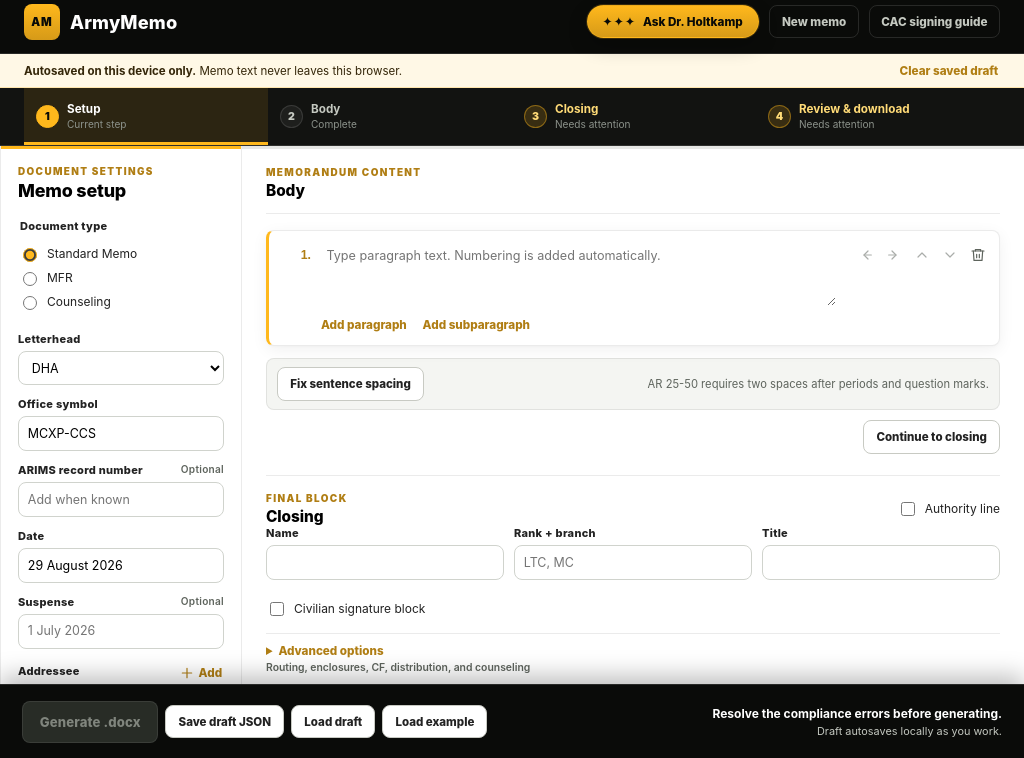
Test: ArmyMemo editor › keeps generation enabled when a valid memo omits the optional ARIMS record number
The image size is (1024, 758).
Click the button "Load example" at (435, 721), box [382,704,488,738]
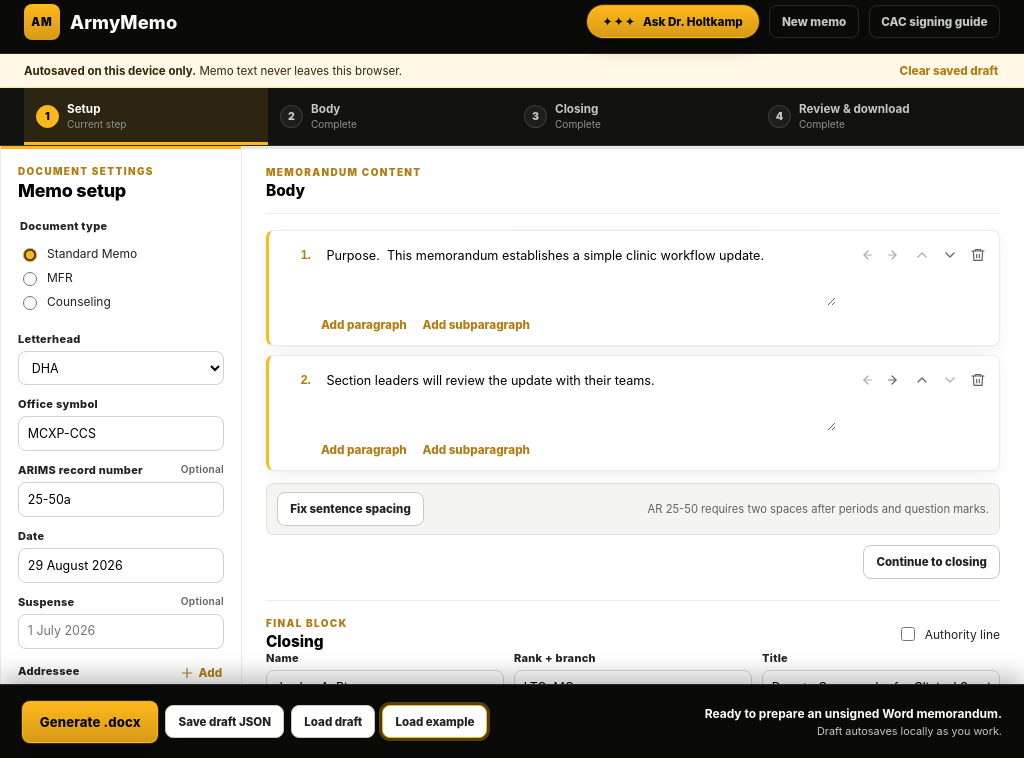
Clear the field labelled "ARIMS record number Optional" at (121, 500), box [18,482,224,517]
(page scrolled)
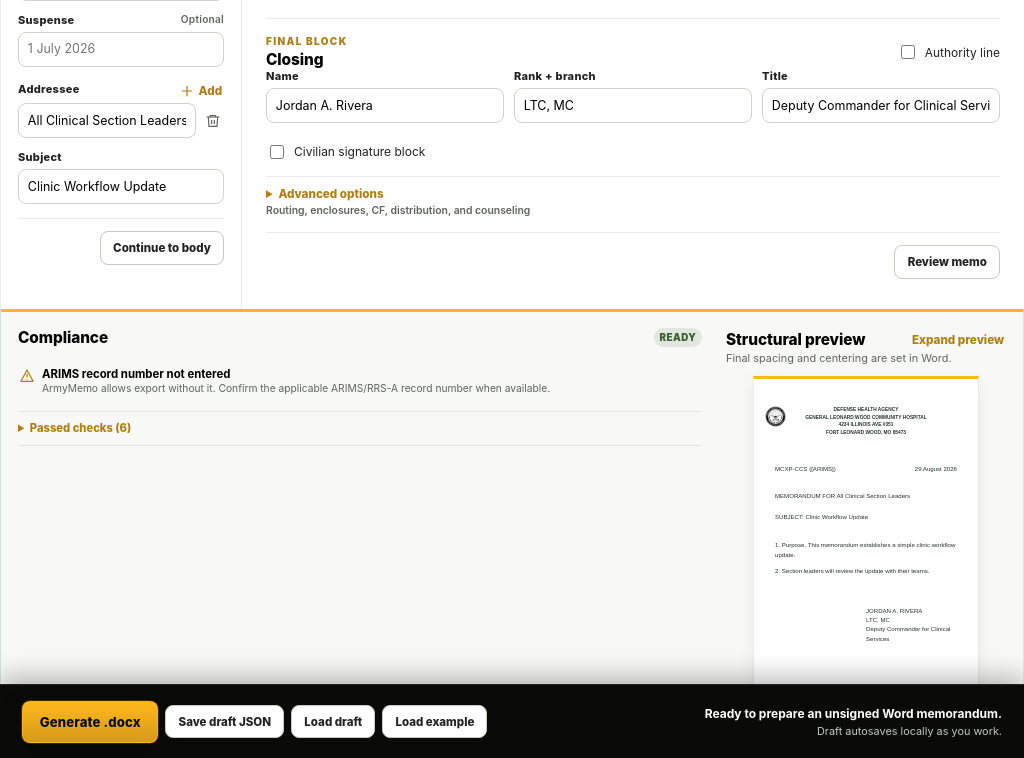
Expected: the button "Generate .docx" is enabled, [22,700,158,742]
Expected: the text "ARIMS record number not entered" is shown, [42,367,230,381]
